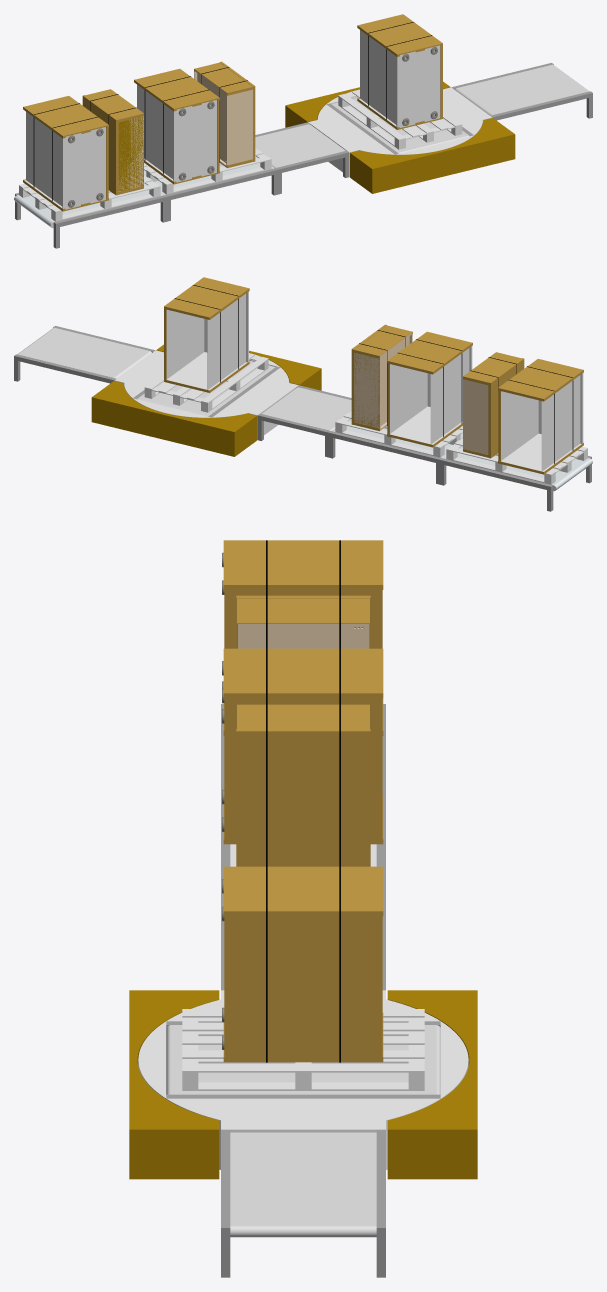
Rendered from annexe 1.glb.
3 renders of one model, top to bottom at view 1: azimuth 30°, elevation 25°; view 2: azimuth 150°, elevation 25°; view 3: azimuth 270°, elevation 25°, orthographic. The views are drawn at different scales.
Parts seen in each view (by area): view 1: Part 1 (×10), Part 4 (×6), Part 3 (×7), Part 2 (×5), Part 5; view 2: Part 1 (×8), Part 3 (×7), Part 4 (×6), Part 2 (×6), Part 5; view 3: Part 3 (×7), Part 4 (×6), Part 2 (×3), Part 5, Part 1 (×3).
Part boxes in pixels (x1,y1,x2,y2): Part 1 (×10): [15, 30, 592, 248]; Part 4 (×6): [23, 14, 515, 195]; Part 3 (×7): [14, 62, 589, 228]; Part 2 (×5): [19, 90, 469, 221]; Part 5: [285, 81, 450, 127]; Part 1 (×8): [133, 291, 591, 511]; Part 3 (×7): [17, 325, 592, 491]; Part 4 (×6): [156, 277, 583, 458]; Part 2 (×6): [14, 353, 587, 484]; Part 5: [91, 381, 256, 456]; Part 3 (×7): [138, 590, 468, 1237]; Part 4 (×6): [129, 540, 383, 1179]; Part 2 (×3): [166, 1009, 440, 1277]; Part 5: [387, 990, 477, 1179]; Part 1 (×3): [166, 624, 440, 1277].
Size of the model in its own units: 6.82 by 1.33 by 1.9.
